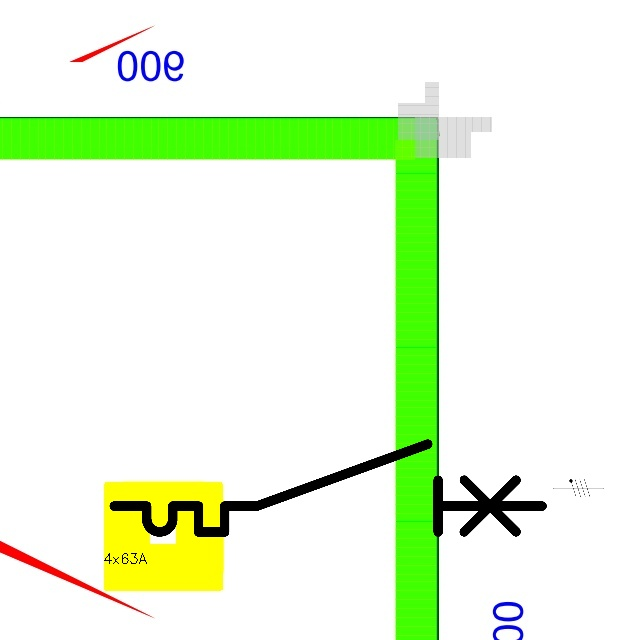interruptor_termomagnetico: (103, 433, 553, 543)
